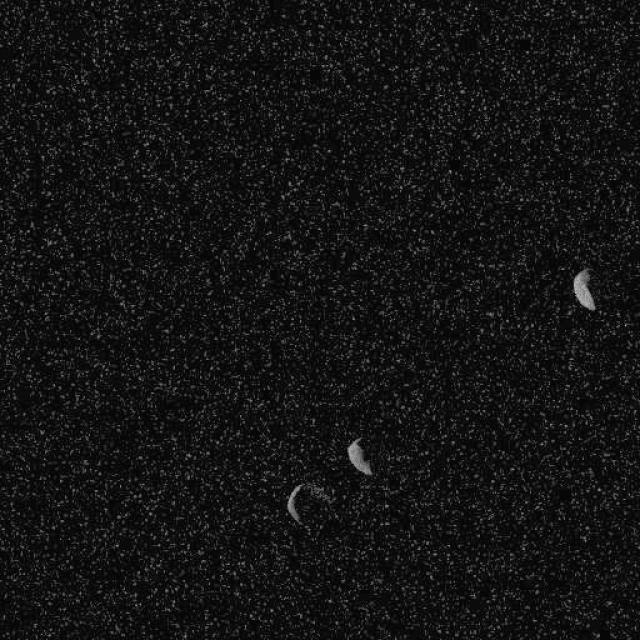D2: (285, 481, 334, 529), (345, 435, 373, 476), (572, 266, 596, 312)
